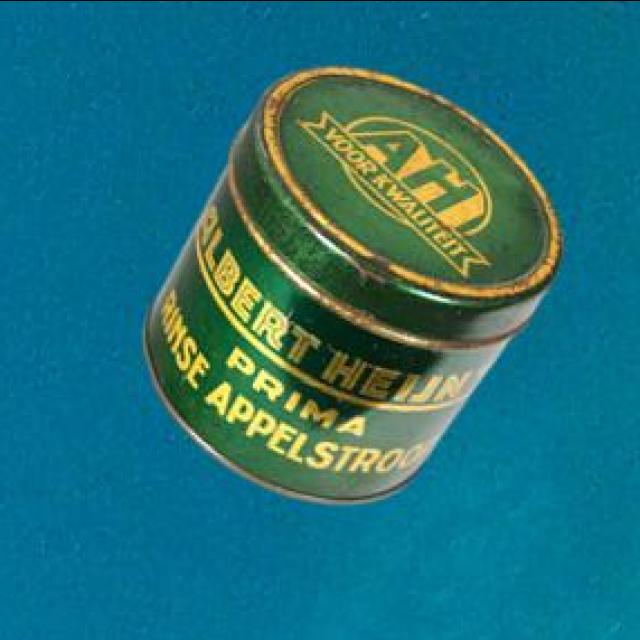logam: (140, 68, 558, 507)
